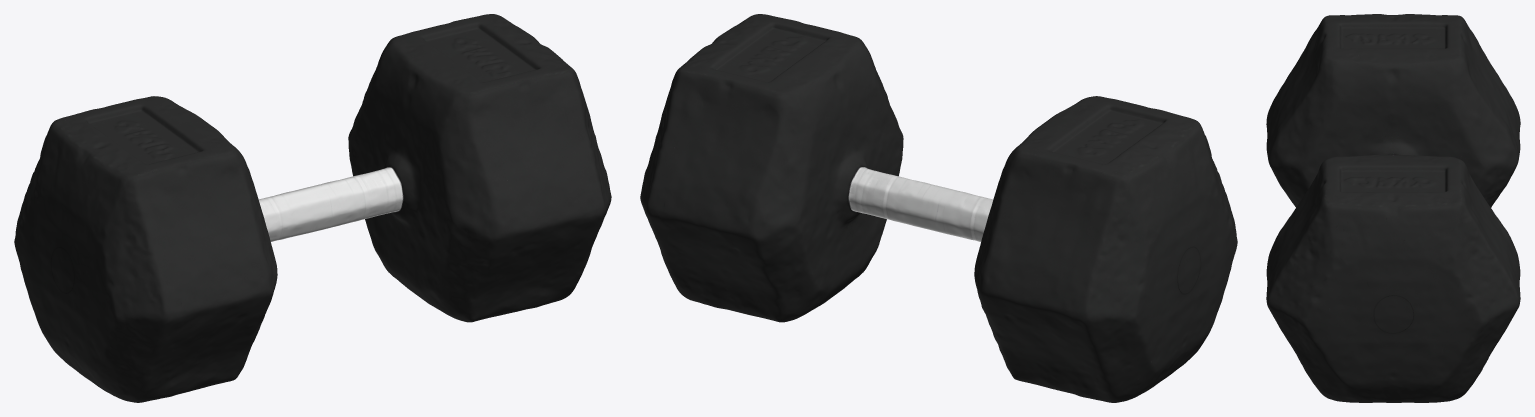
Rendered from gym.glb.
The picture shows the model from 3 angles, left to right: view 1: azimuth 30°, elevation 25°; view 2: azimuth 150°, elevation 25°; view 3: azimuth 270°, elevation 25°; orthographic projection. The views are drawn at different scales.
Parts seen in each view (by area): view 1: Mesh_0; view 2: Mesh_0; view 3: Mesh_0.
Part boxes in pixels (x1,y1,x2,y2): Mesh_0: [14, 14, 611, 402]; Mesh_0: [640, 14, 1237, 402]; Mesh_0: [1266, 14, 1520, 402].
Size of the model in its own units: 2.26 by 1 by 1.14.
1 material, 1 textured.
